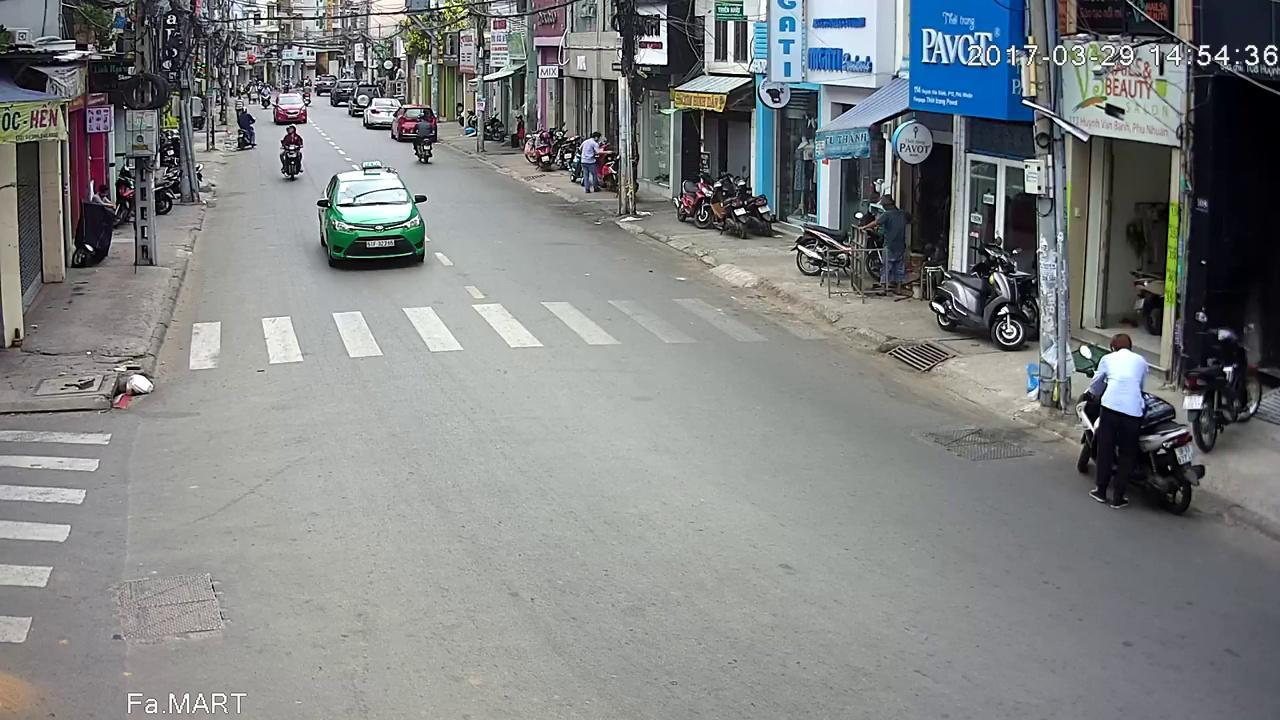xe hoi: (321, 167, 429, 273), (392, 103, 437, 142)
xe may: (1073, 327, 1206, 506), (276, 123, 302, 181), (414, 119, 433, 171)
